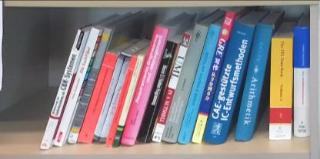book-spine: (202, 21, 256, 148), (191, 9, 235, 145), (120, 25, 169, 147), (39, 28, 87, 152), (162, 22, 210, 145), (54, 27, 101, 148), (177, 23, 222, 146), (67, 26, 113, 144), (234, 23, 274, 144), (136, 39, 177, 145), (152, 33, 190, 143), (78, 52, 118, 146), (93, 53, 131, 144), (112, 55, 144, 148), (105, 56, 137, 148), (269, 38, 293, 141), (294, 26, 310, 138)
